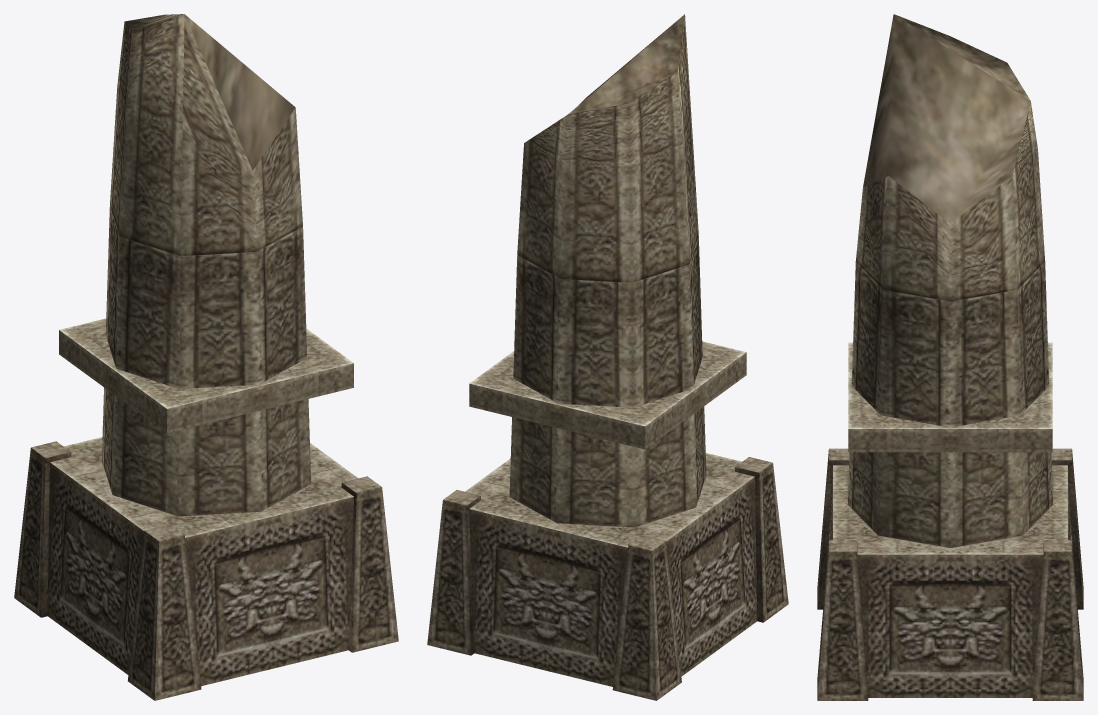
File: general_obj_bigtoewr05.glb
3 renders of one model, left to right at view 1: azimuth 30°, elevation 25°; view 2: azimuth 150°, elevation 25°; view 3: azimuth 270°, elevation 25°, orthographic. The views are drawn at different scales.
Visible parts, largest first — view 1: Sphere01; view 2: Sphere01; view 3: Sphere01.
Part boxes in pixels (box(x1,y1,x2,y2)): Sphere01: box(14, 14, 398, 700); Sphere01: box(427, 14, 788, 700); Sphere01: box(817, 14, 1083, 700).
Bounding box in the file's own units: 5.22 × 13.09 × 5.21.
1 material, 1 textured.
